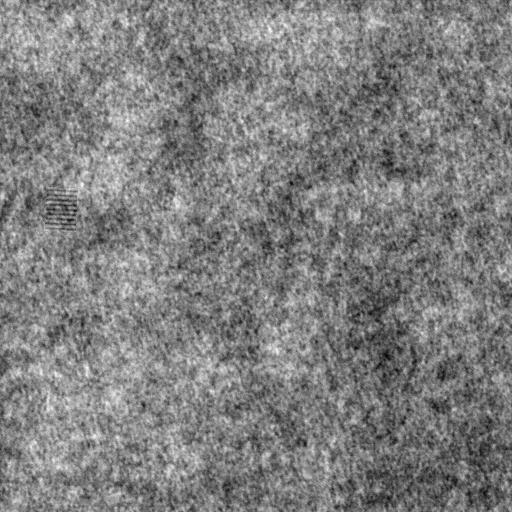DefectTypeB: (46, 185, 80, 231)
